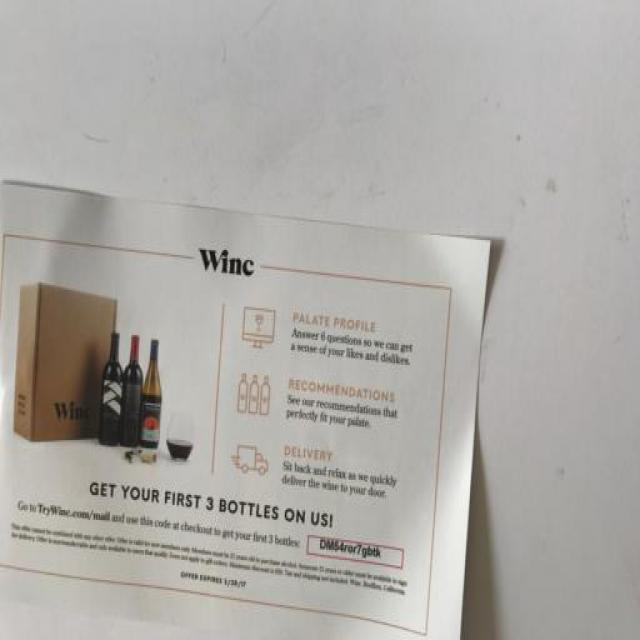paper: (1, 172, 486, 640)
